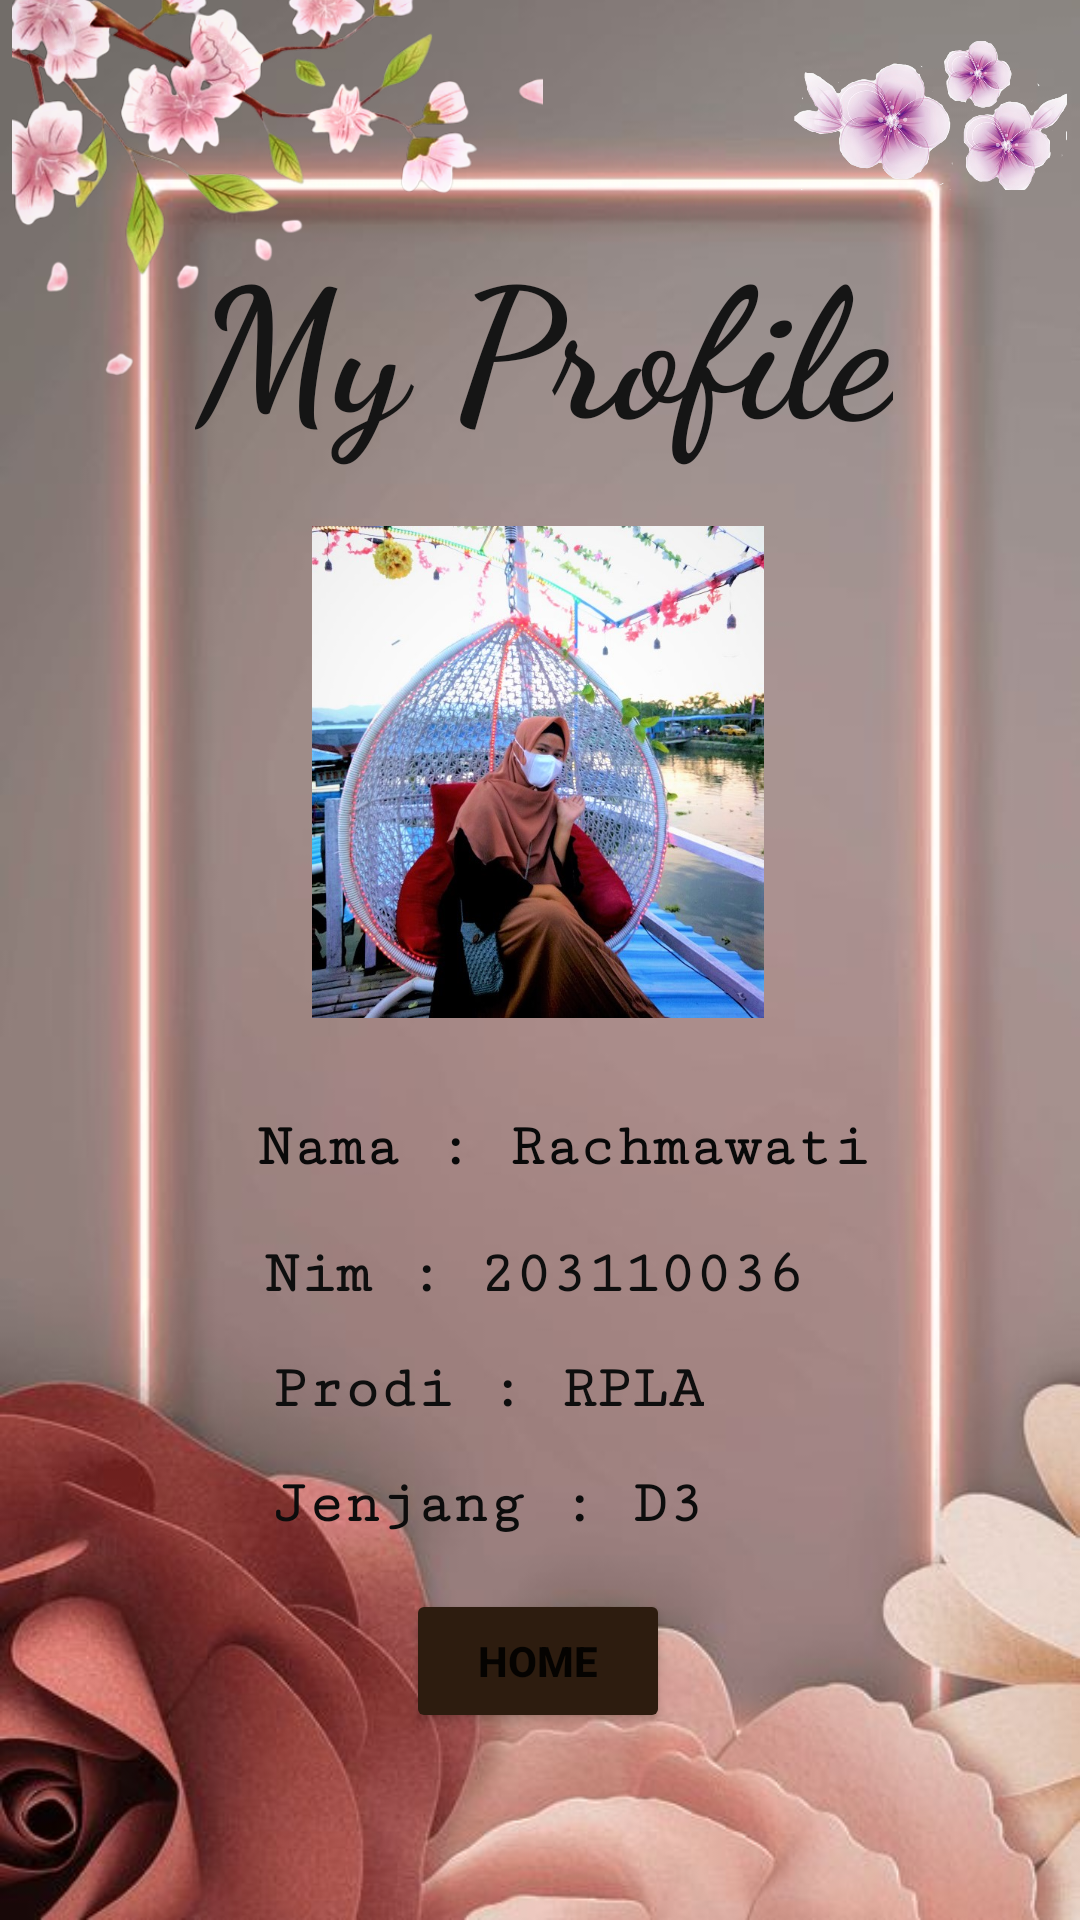

Icons on this 1080×1920 Android screen, each with its box as (x1,y1,x2,y2):
purpleflo: (792,41,1067,219)
